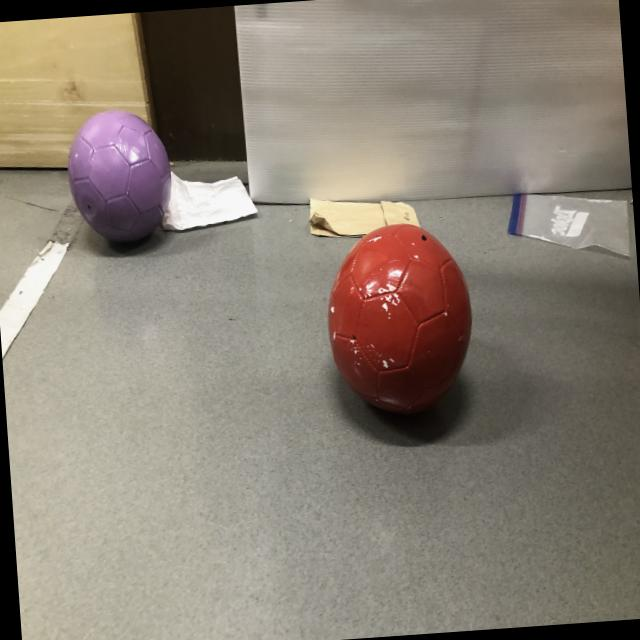purple_ball: (62, 104, 174, 250)
red_ball: (321, 218, 478, 420)
